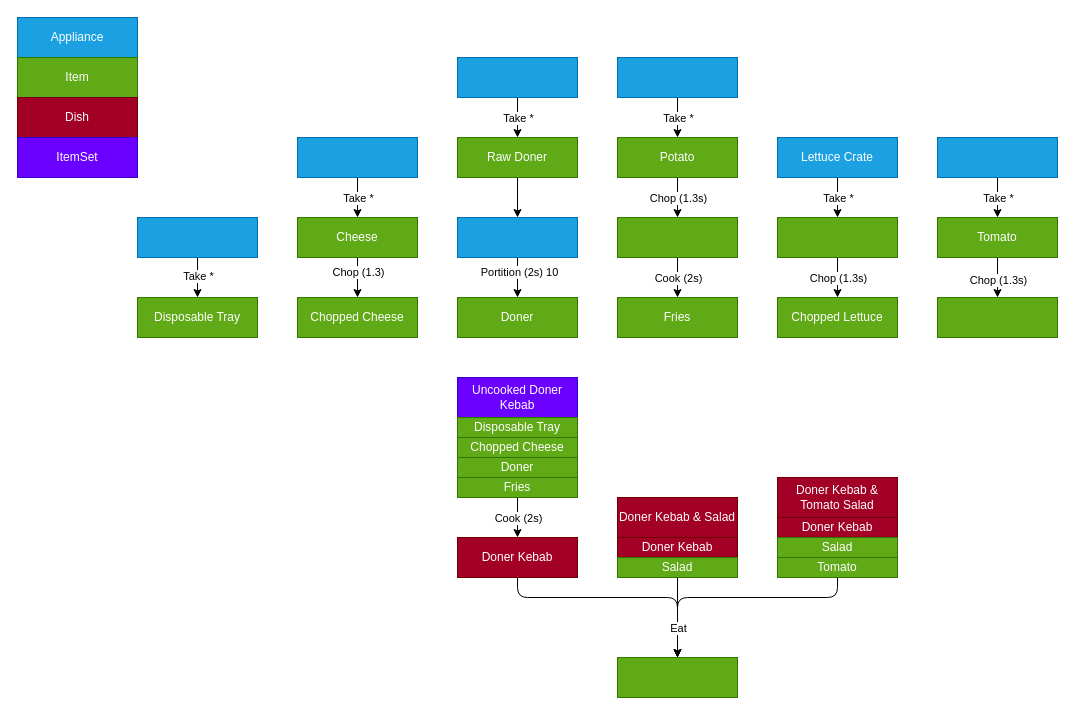
The diagram is 1075 pixels wide and 715 high, and some of its shapes have lost their labels. The box of each missing label's shape, as (x1, y1, x2, y2) in pixels:
Cheese Block: (296, 136, 418, 178)
Chopped Potato: (616, 216, 738, 258)
Chopped Tomato: (936, 296, 1058, 338)
Dirty Disposable Tray: (616, 656, 738, 698)
Doner Grill (Cook 10s): (456, 216, 578, 258)
Fridge: (456, 56, 578, 98)
Lettuce: (776, 216, 898, 258)
Potato Sack: (616, 56, 738, 98)
Tomato Crate: (936, 136, 1058, 178)
Trays: (136, 216, 258, 258)
